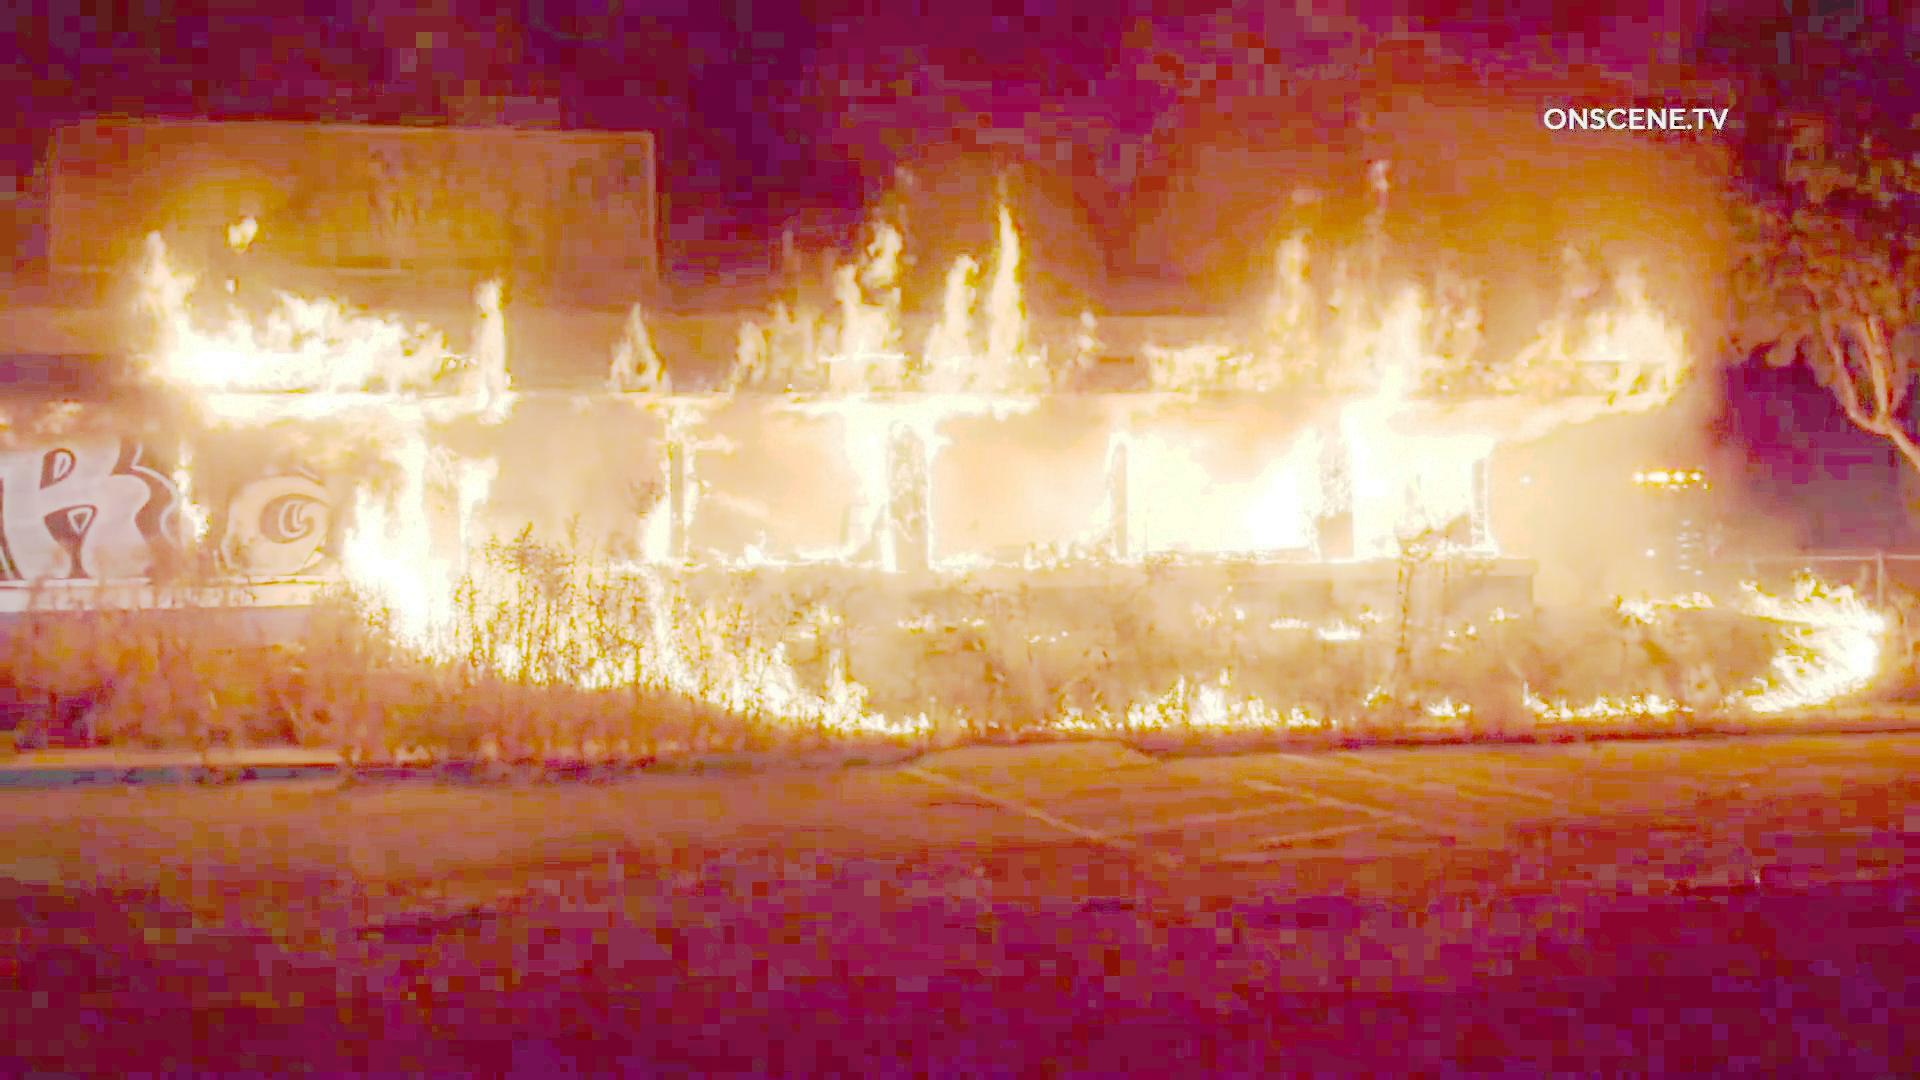fire: (153, 220, 509, 638), (761, 233, 1106, 560), (1357, 223, 1665, 553), (1130, 214, 1317, 556), (621, 588, 890, 723), (1730, 563, 1895, 712)
